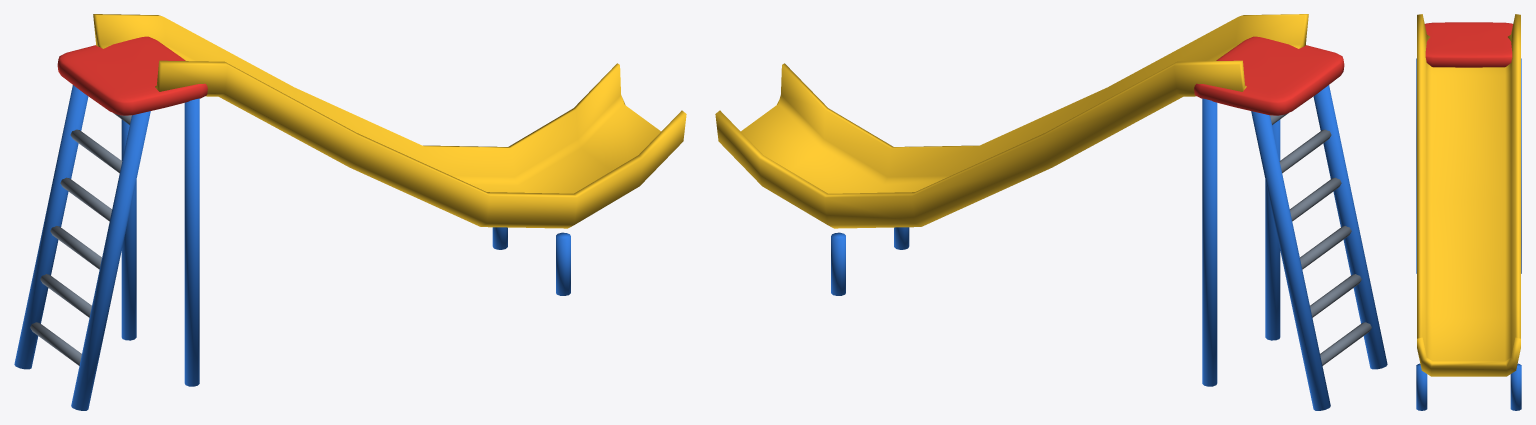
The model's file is slide.glb.
The picture shows the model from 3 angles, left to right: view 1: azimuth 30°, elevation 25°; view 2: azimuth 150°, elevation 25°; view 3: azimuth 270°, elevation 25°; orthographic projection. The views are drawn at different scales.
Visible parts, largest first — view 1: Body; view 2: Body; view 3: Body.
Part boxes in pixels (left/top/right/bottom): Body: left=14, top=14, right=686, bottom=410; Body: left=715, top=14, right=1387, bottom=410; Body: left=1416, top=14, right=1521, bottom=410.
Bounding box in the file's own units: 5.57 × 2.91 × 1.11.
